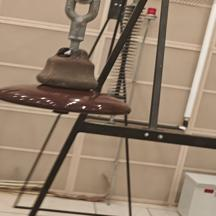insulator: (0, 40, 136, 127)
